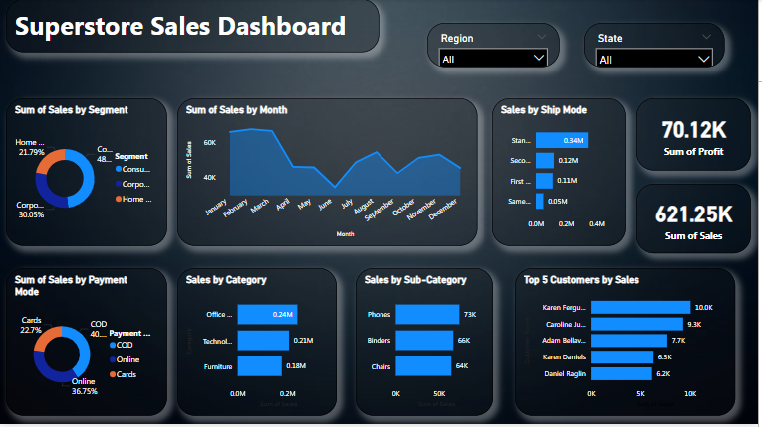

The page's visual inventory and layout, read from the dashboard file:
{"tool":"powerbi","page":{"name":"Page 1","canvas":[1280,720],"ordinal":0},"visuals":[{"type":"textbox","box":[10,0,630,90],"z":0},{"type":"donutChart","fields":{"Y":["SuperStore_Sales_Dataset1111 (1).Sales"],"Category":["SuperStore_Sales_Dataset1111 (1).Segment"]},"box":[10,168.3,271.7,250],"z":1000},{"type":"donutChart","fields":{"Category":["SuperStore_Sales_Dataset1111 (1).Payment Mode"],"Y":["SuperStore_Sales_Dataset1111 (1).Sales"]},"box":[10,455,271.7,250],"z":2000},{"type":"stackedAreaChart","fields":{"Category":["SuperStore_Sales_Dataset1111 (1).Order Date.Variation.Date Hierarchy.Month"],"Y":["SuperStore_Sales_Dataset1111 (1).Sales"]},"box":[299,168,507.3,250.3],"z":3000},{"type":"barChart","title":" Sales by Ship Mode","fields":{"Category":["SuperStore_Sales_Dataset1111 (1).Ship Mode"],"Y":["SuperStore_Sales_Dataset1111 (1).Sales"]},"box":[831.7,168.3,225,250],"z":4000},{"type":"barChart","title":" Sales by Category","fields":{"Y":["SuperStore_Sales_Dataset1111 (1).Sales"],"Category":["SuperStore_Sales_Dataset1111 (1).Category"]},"box":[299,455.2,268.8,250.3],"z":5000},{"type":"barChart","title":"Sales by Sub-Category","fields":{"Category":["SuperStore_Sales_Dataset1111 (1).Sub-Category"],"Y":["SuperStore_Sales_Dataset1111 (1).Sales"]},"box":[600,455,231.7,250],"z":6000},{"type":"slicer","fields":{"Values":["SuperStore_Sales_Dataset1111 (1).State"]},"box":[985,40,238.3,75],"z":7000},{"type":"card","fields":{"Values":["SuperStore_Sales_Dataset1111 (1).Profit"]},"box":[1075,168.3,193.3,121.7],"z":8000},{"type":"card","fields":{"Values":["SuperStore_Sales_Dataset1111 (1).Sales"]},"box":[1075,313.3,193.3,118.3],"z":9000},{"type":"barChart","title":"Top 5  Customers by Sales","fields":{"Category":["SuperStore_Sales_Dataset1111 (1).Customer Name"],"Y":["SuperStore_Sales_Dataset1111 (1).Sales"]},"box":[870,455,371.7,250],"z":10000},{"type":"slicer","fields":{"Values":["SuperStore_Sales_Dataset1111 (1).Region"]},"box":[721.7,40,223.3,75],"z":11000}]}

Visuals, with their boxes in screenshot pixels (x1, y1, x2, y2), scaled from the page's 1280x720 canvas onto the 762x427 screenshot:
textbox: bbox=[6, 0, 381, 53]
donutChart - SuperStore_Sales_Dataset1111 (1).Sales x SuperStore_Sales_Dataset1111 (1).Segment: bbox=[6, 100, 168, 248]
donutChart - SuperStore_Sales_Dataset1111 (1).Payment Mode x SuperStore_Sales_Dataset1111 (1).Sales: bbox=[6, 270, 168, 418]
stackedAreaChart - SuperStore_Sales_Dataset1111 (1).Order Date.Variation.Date Hierarchy.Month x SuperStore_Sales_Dataset1111 (1).Sales: bbox=[178, 100, 480, 248]
" Sales by Ship Mode" barChart: bbox=[495, 100, 629, 248]
" Sales by Category" barChart: bbox=[178, 270, 338, 418]
"Sales by Sub-Category" barChart: bbox=[357, 270, 495, 418]
slicer - SuperStore_Sales_Dataset1111 (1).State: bbox=[586, 24, 728, 68]
card - SuperStore_Sales_Dataset1111 (1).Profit: bbox=[640, 100, 755, 172]
card - SuperStore_Sales_Dataset1111 (1).Sales: bbox=[640, 186, 755, 256]
"Top 5  Customers by Sales" barChart: bbox=[518, 270, 739, 418]
slicer - SuperStore_Sales_Dataset1111 (1).Region: bbox=[430, 24, 563, 68]
